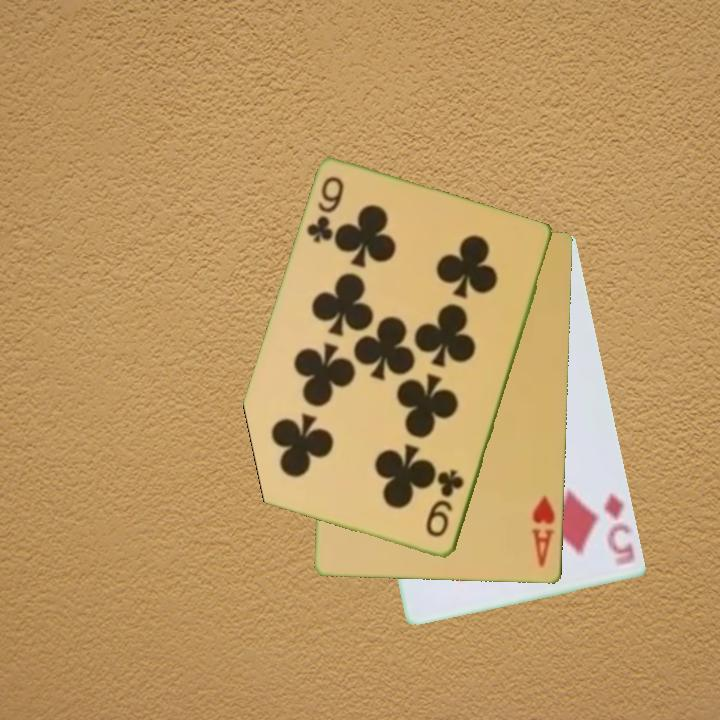5d: (601, 490, 638, 569)
9c: (422, 467, 467, 541), (303, 173, 347, 247)
Ah: (529, 492, 558, 570)
